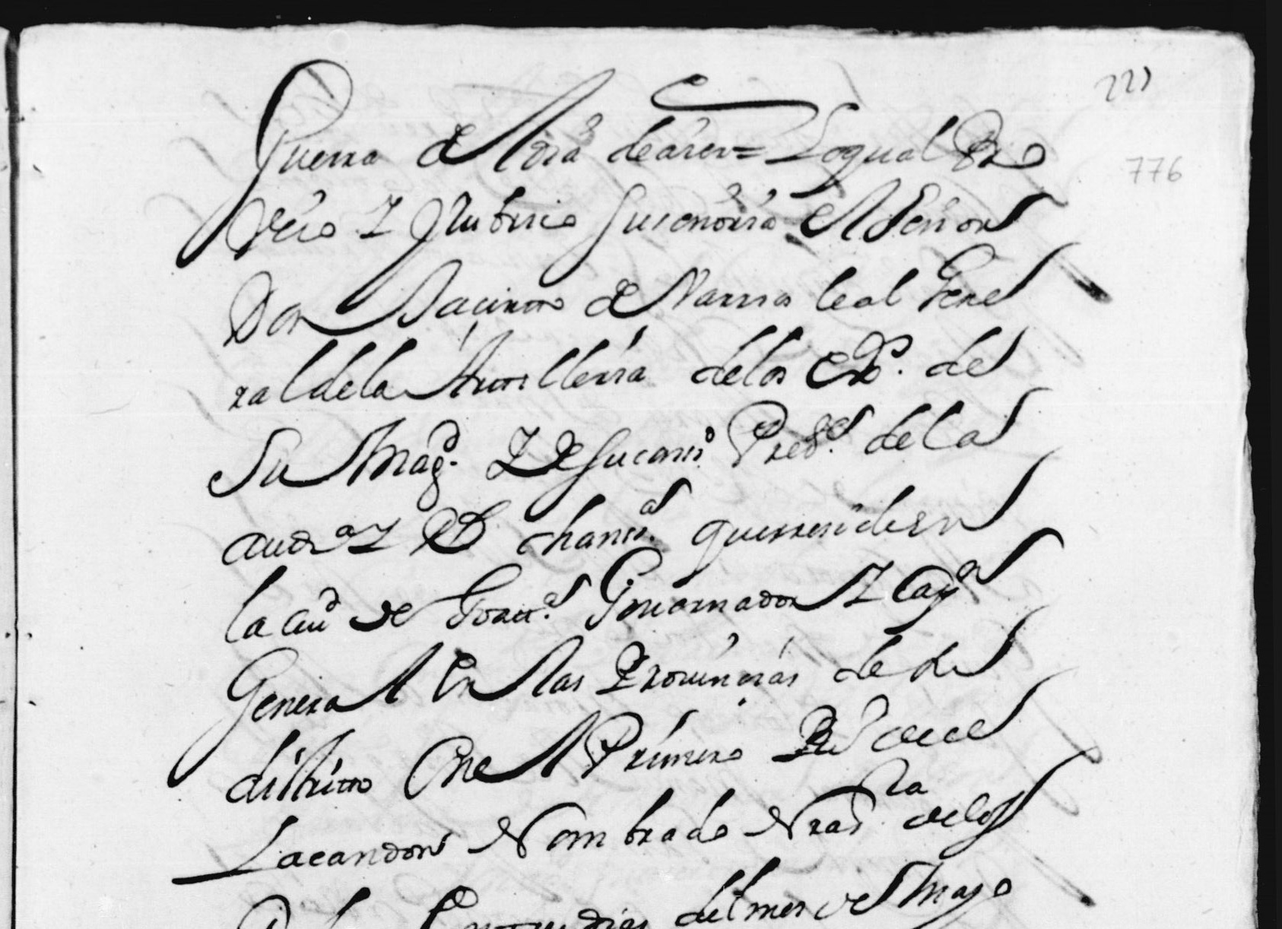lacandon: (171, 815, 452, 884)
